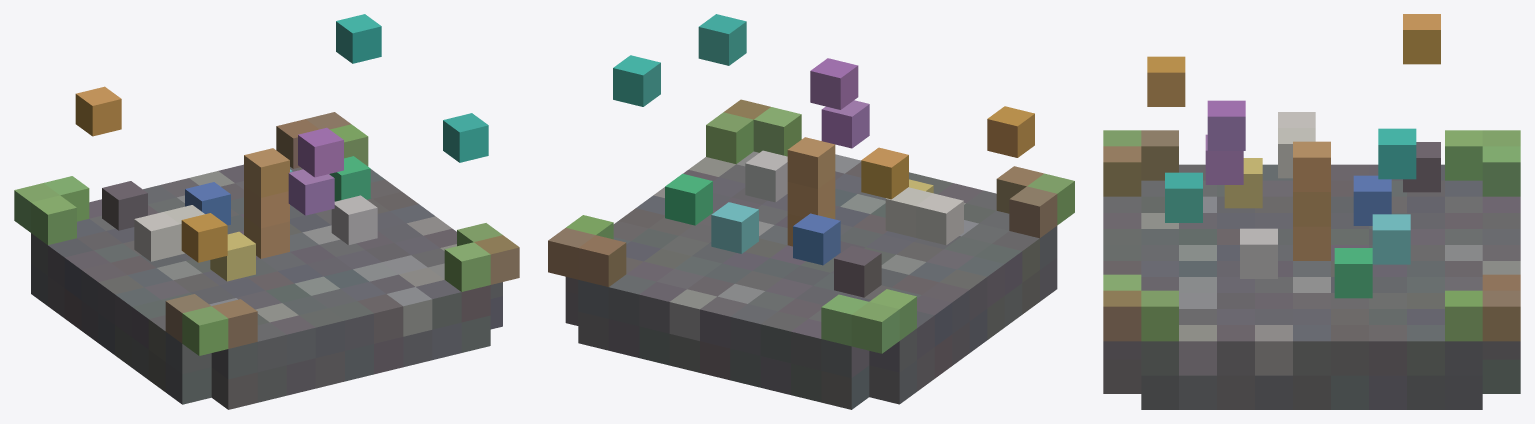
Rendered from cluster.glb.
3 views of the same model, side by side, from view 1: azimuth 30°, elevation 25°; view 2: azimuth 150°, elevation 25°; view 3: azimuth 270°, elevation 25° (orthographic). The views are drawn at different scales.
Visible parts, largest first — view 1: materials_cluster; view 2: materials_cluster; view 3: materials_cluster.
Part boxes in pixels (box(x1,y1,x2,y2)): materials_cluster: box(14, 14, 519, 409); materials_cluster: box(548, 14, 1074, 409); materials_cluster: box(1103, 14, 1520, 409).
Size of the model in its own units: 11 by 7.45 by 11.
